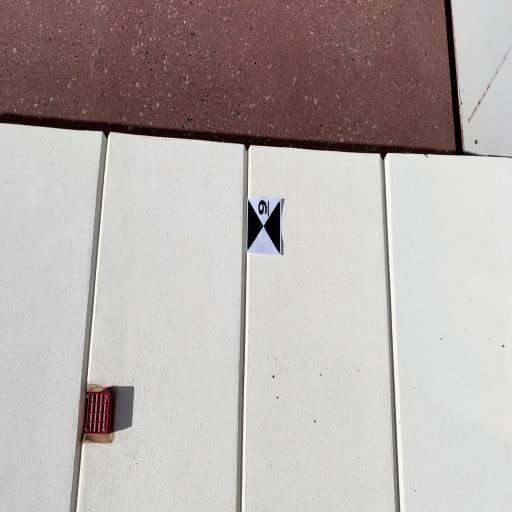target9: (247, 198, 281, 254)
